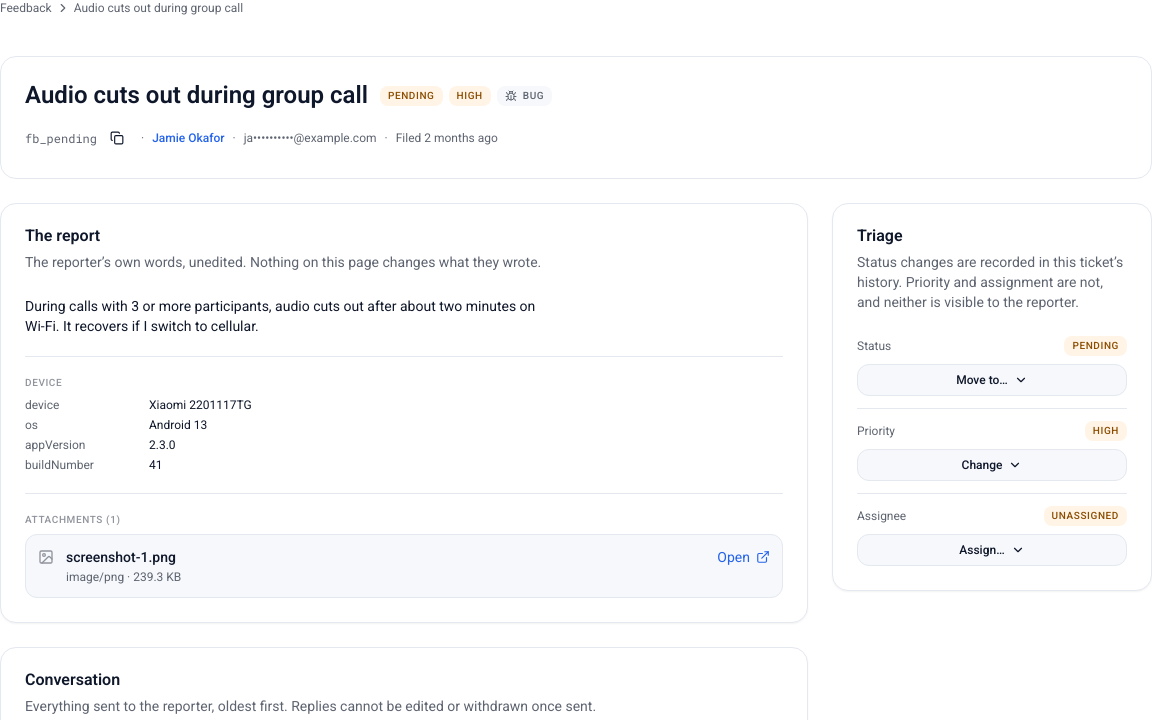
it: assignment › offers only ACTIVE staff
What coordinates should you click on to do the following:
click the button with aria-label "Assign this ticket"
I would click on:
 (992, 550)
Its box is 857,534 -> 1127,566.
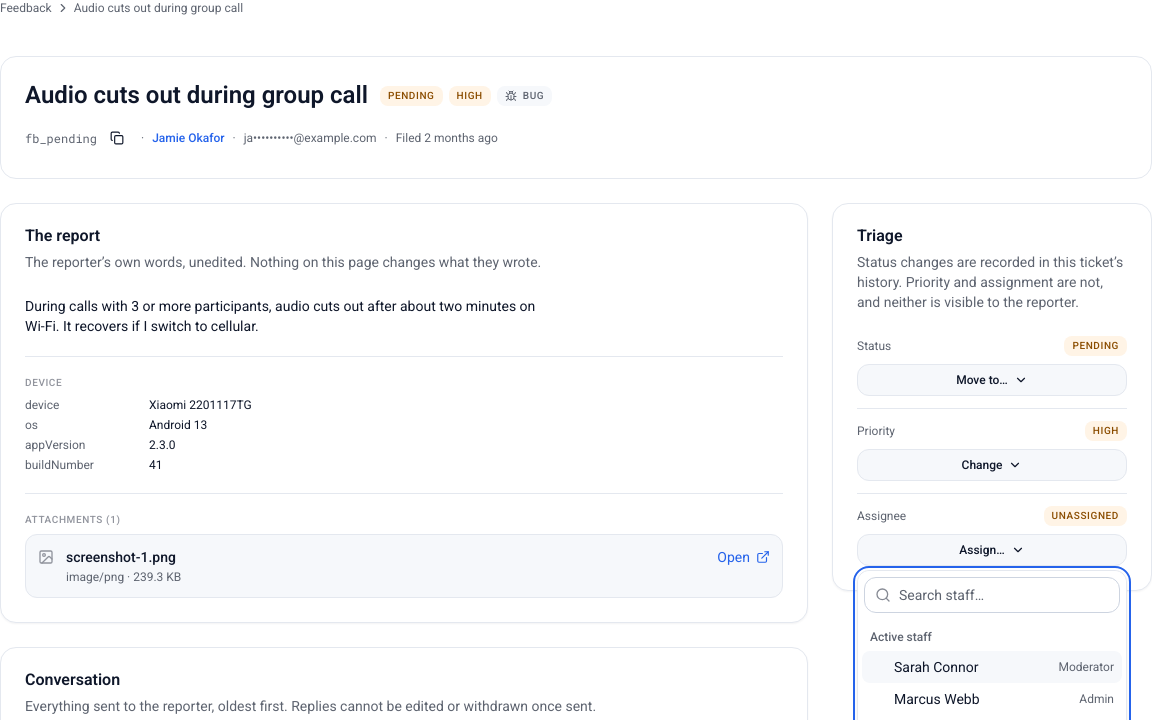
expect the option "Sarah Connor Moderator" is shown: met, box 862,651 -> 1122,683
